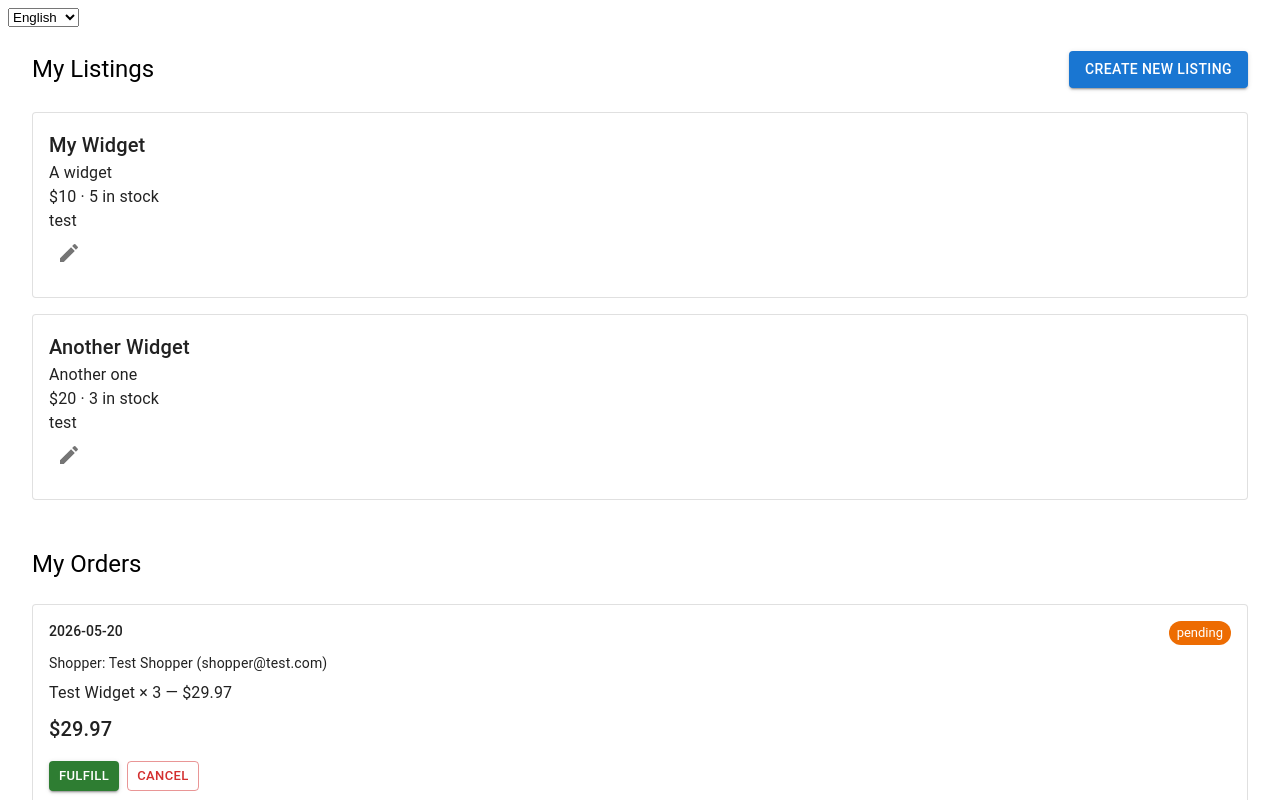
Test: Dashboard Spanish › My Listings
The image size is (1280, 800).
Select "Spanish" in the dropdown at (44, 18), box [8,8,79,27]
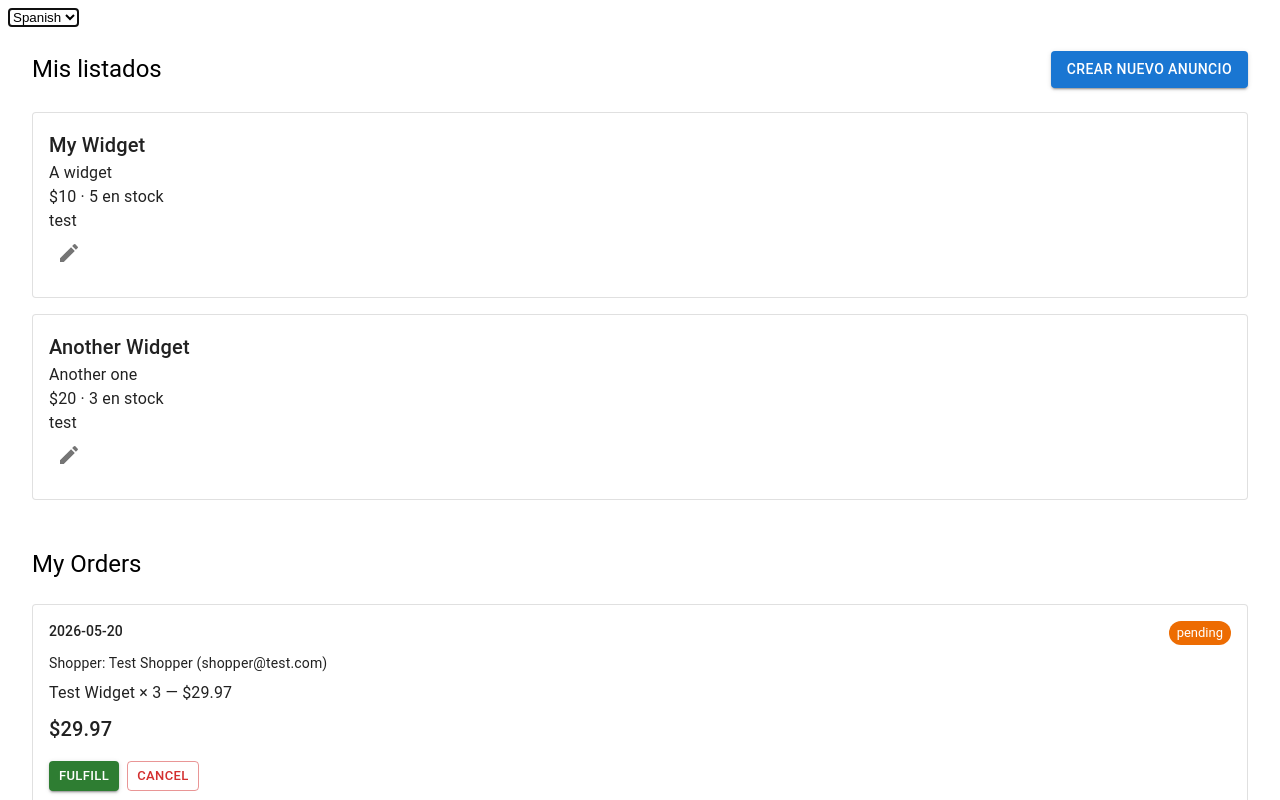
Expected: the heading "Mis listados" is shown, [32,53,162,85]
